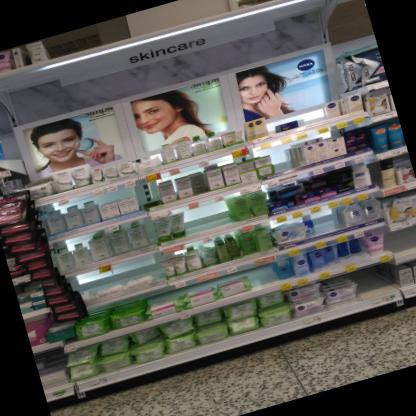empty_space: (78, 254, 159, 297), (180, 196, 235, 236), (351, 259, 398, 298), (382, 220, 416, 257), (244, 258, 282, 290), (268, 142, 296, 176), (299, 100, 329, 129)
